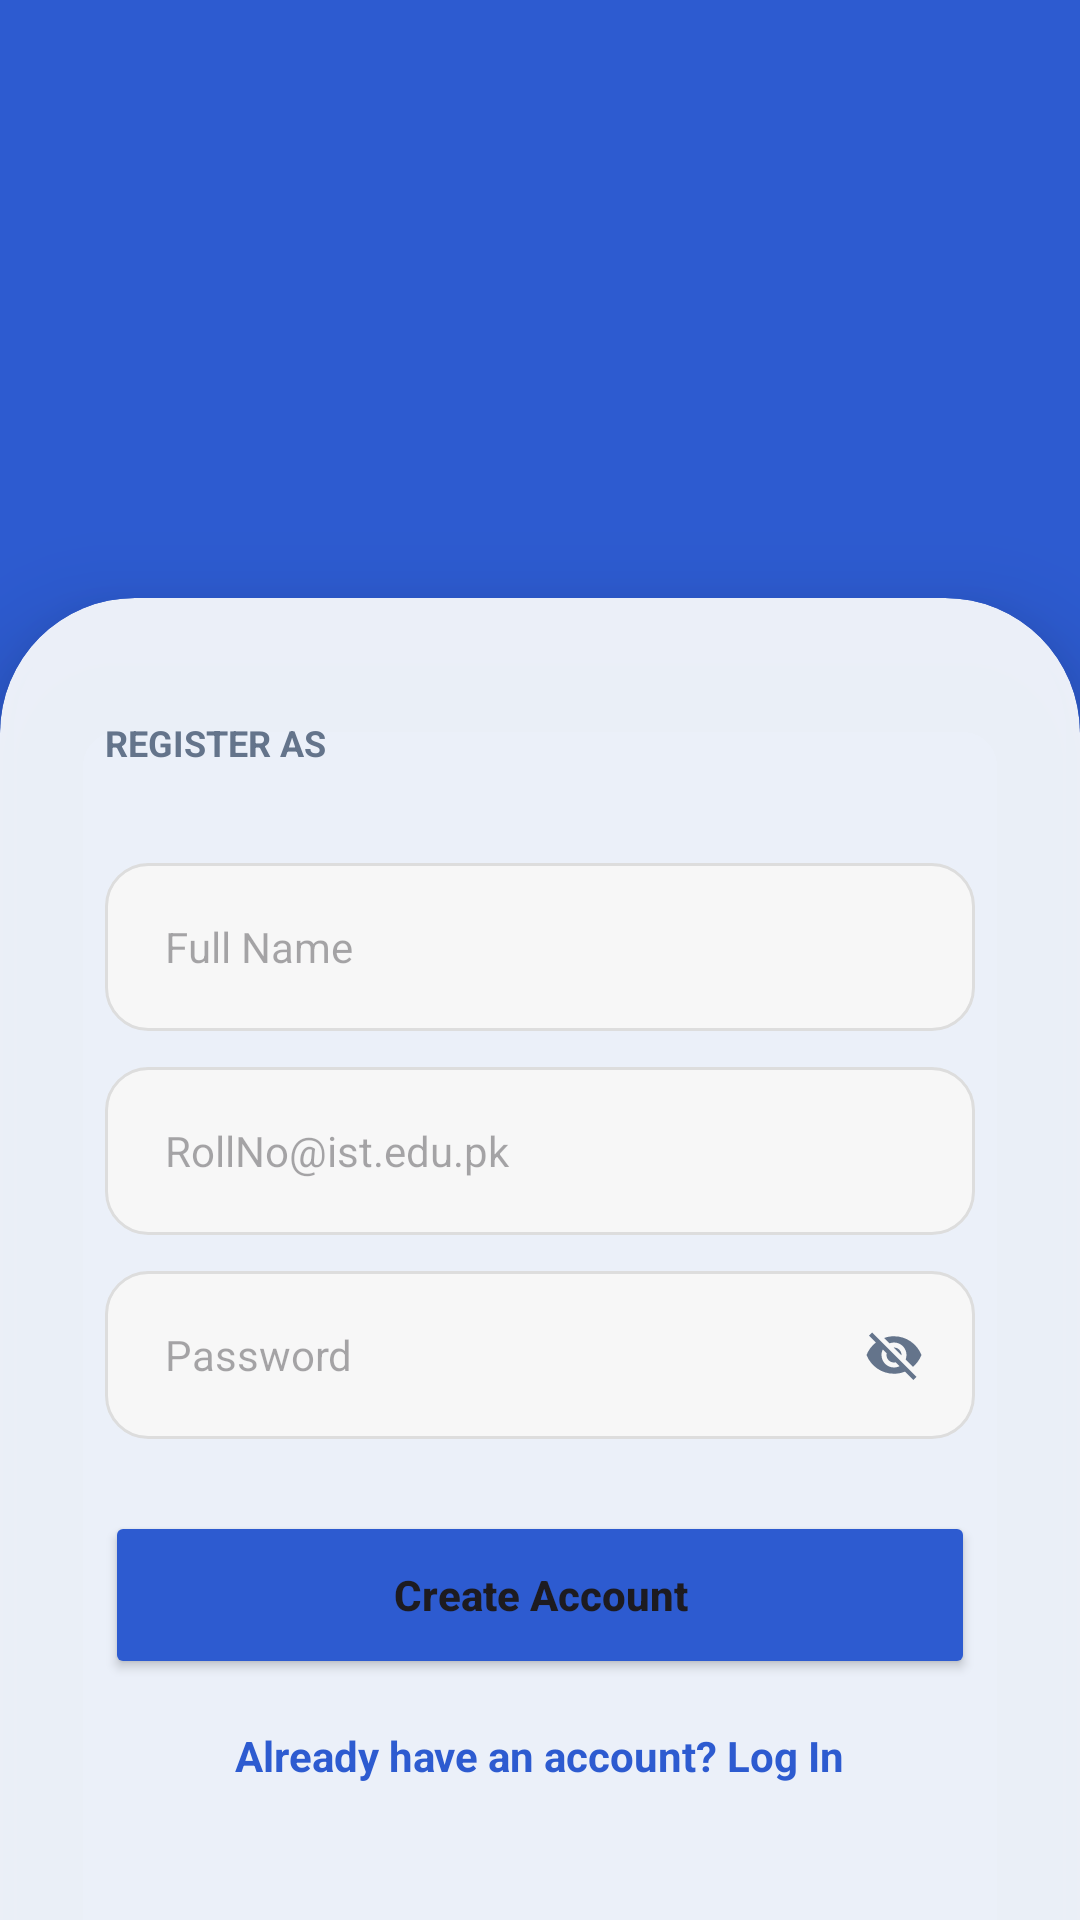

Icon bounding boxes for this 1080×1920 phone screenshot, format (x1, y1, x2, y2):
eye closed: (866, 1332, 922, 1380)
